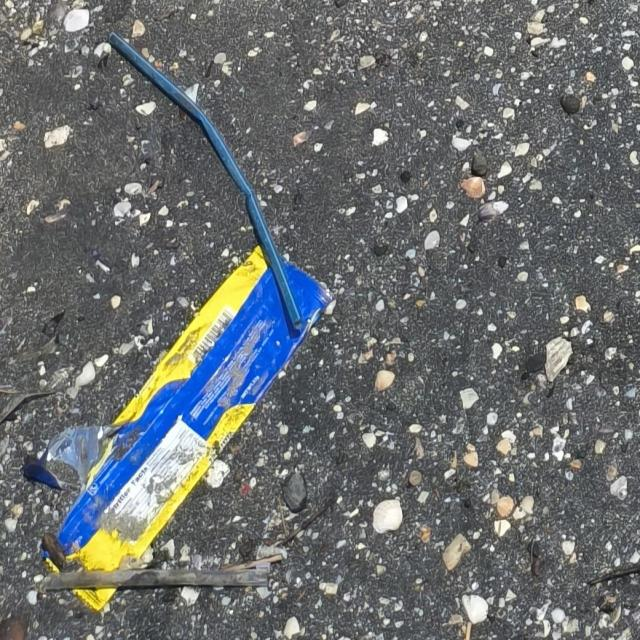plastic_waste: (40, 244, 338, 612), (108, 29, 304, 331)
